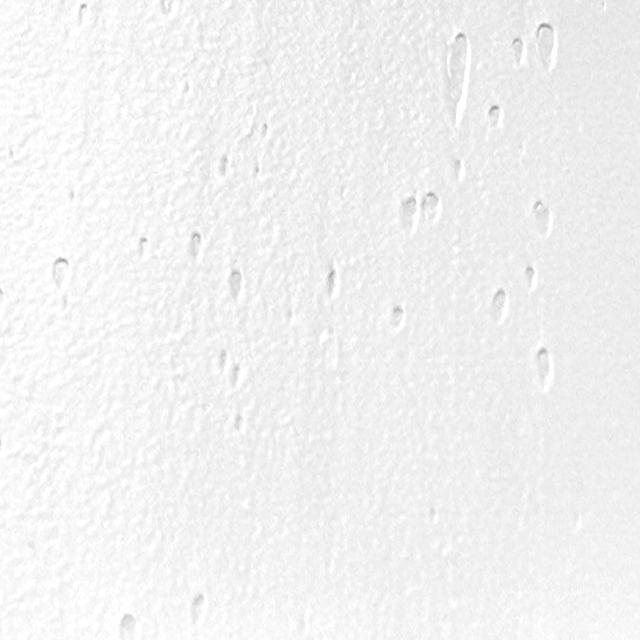pin holes: (442, 35, 472, 109), (532, 21, 561, 74), (409, 189, 444, 232), (531, 342, 559, 392), (529, 200, 555, 239), (186, 592, 210, 630), (49, 255, 72, 291), (486, 286, 508, 322), (115, 611, 142, 640), (398, 194, 419, 230), (421, 190, 444, 222), (226, 268, 247, 302), (322, 266, 343, 298), (185, 231, 206, 263), (508, 36, 528, 67), (228, 362, 248, 392), (390, 304, 410, 332), (522, 264, 542, 291), (484, 104, 503, 132), (73, 1, 92, 26), (449, 156, 467, 182), (155, 0, 178, 20), (232, 413, 249, 439), (216, 153, 232, 179), (136, 235, 153, 259), (218, 349, 232, 373), (428, 506, 442, 527), (66, 190, 79, 210), (1, 287, 10, 315), (260, 122, 272, 140), (253, 165, 264, 181)
